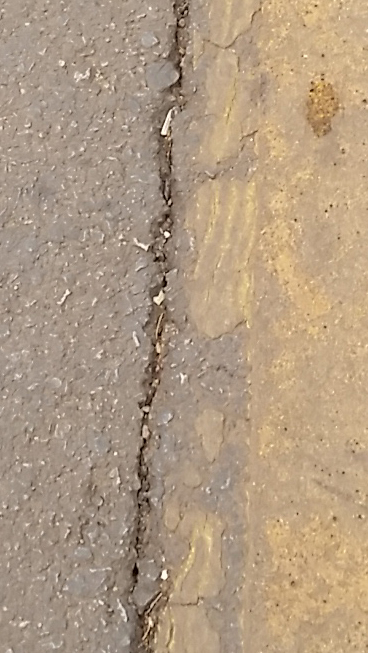A: (115, 5, 241, 643)
